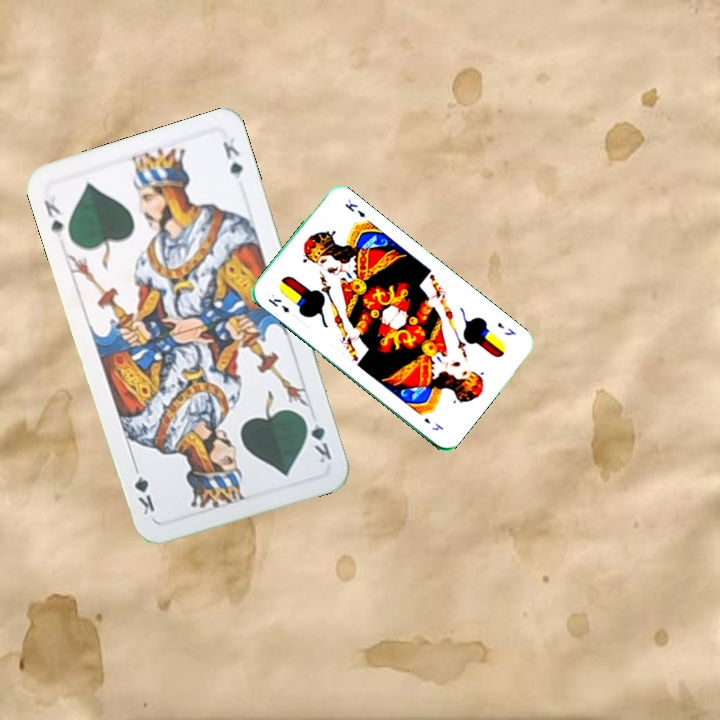EK: (264, 294, 293, 315), (493, 318, 518, 338)
GK: (299, 412, 335, 466), (40, 193, 66, 240)
